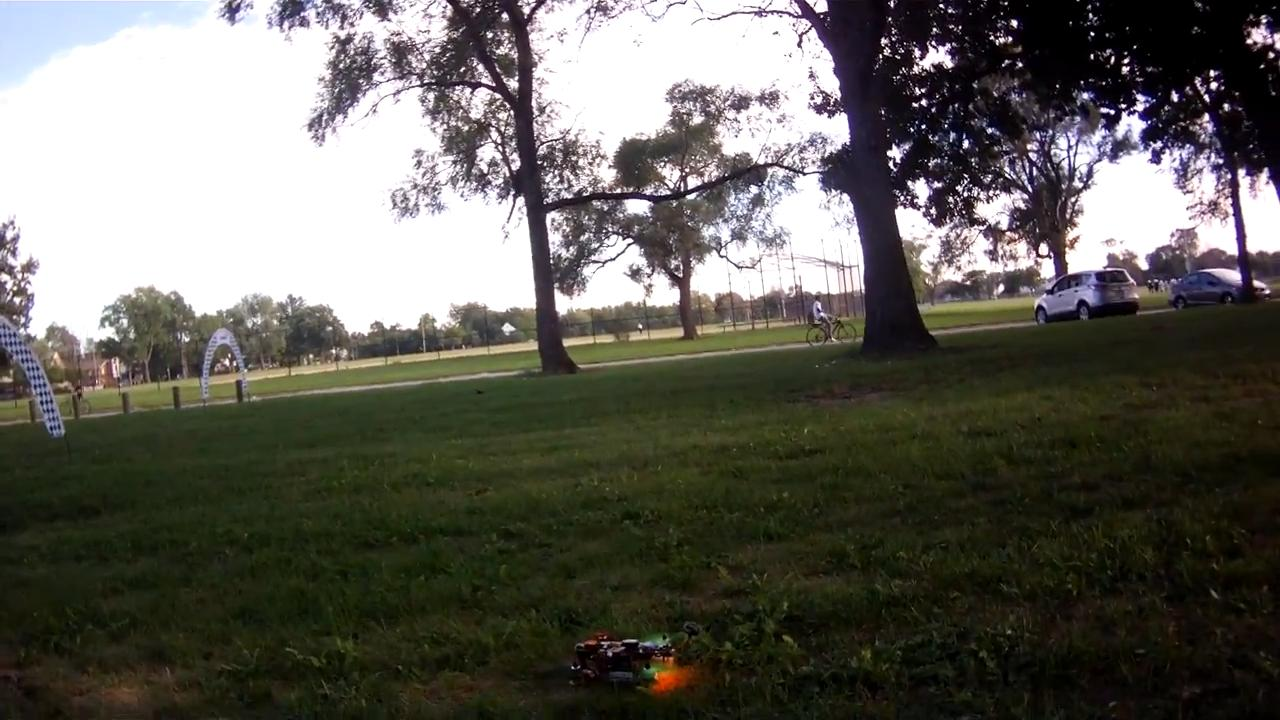gate: (195, 324, 256, 405)
